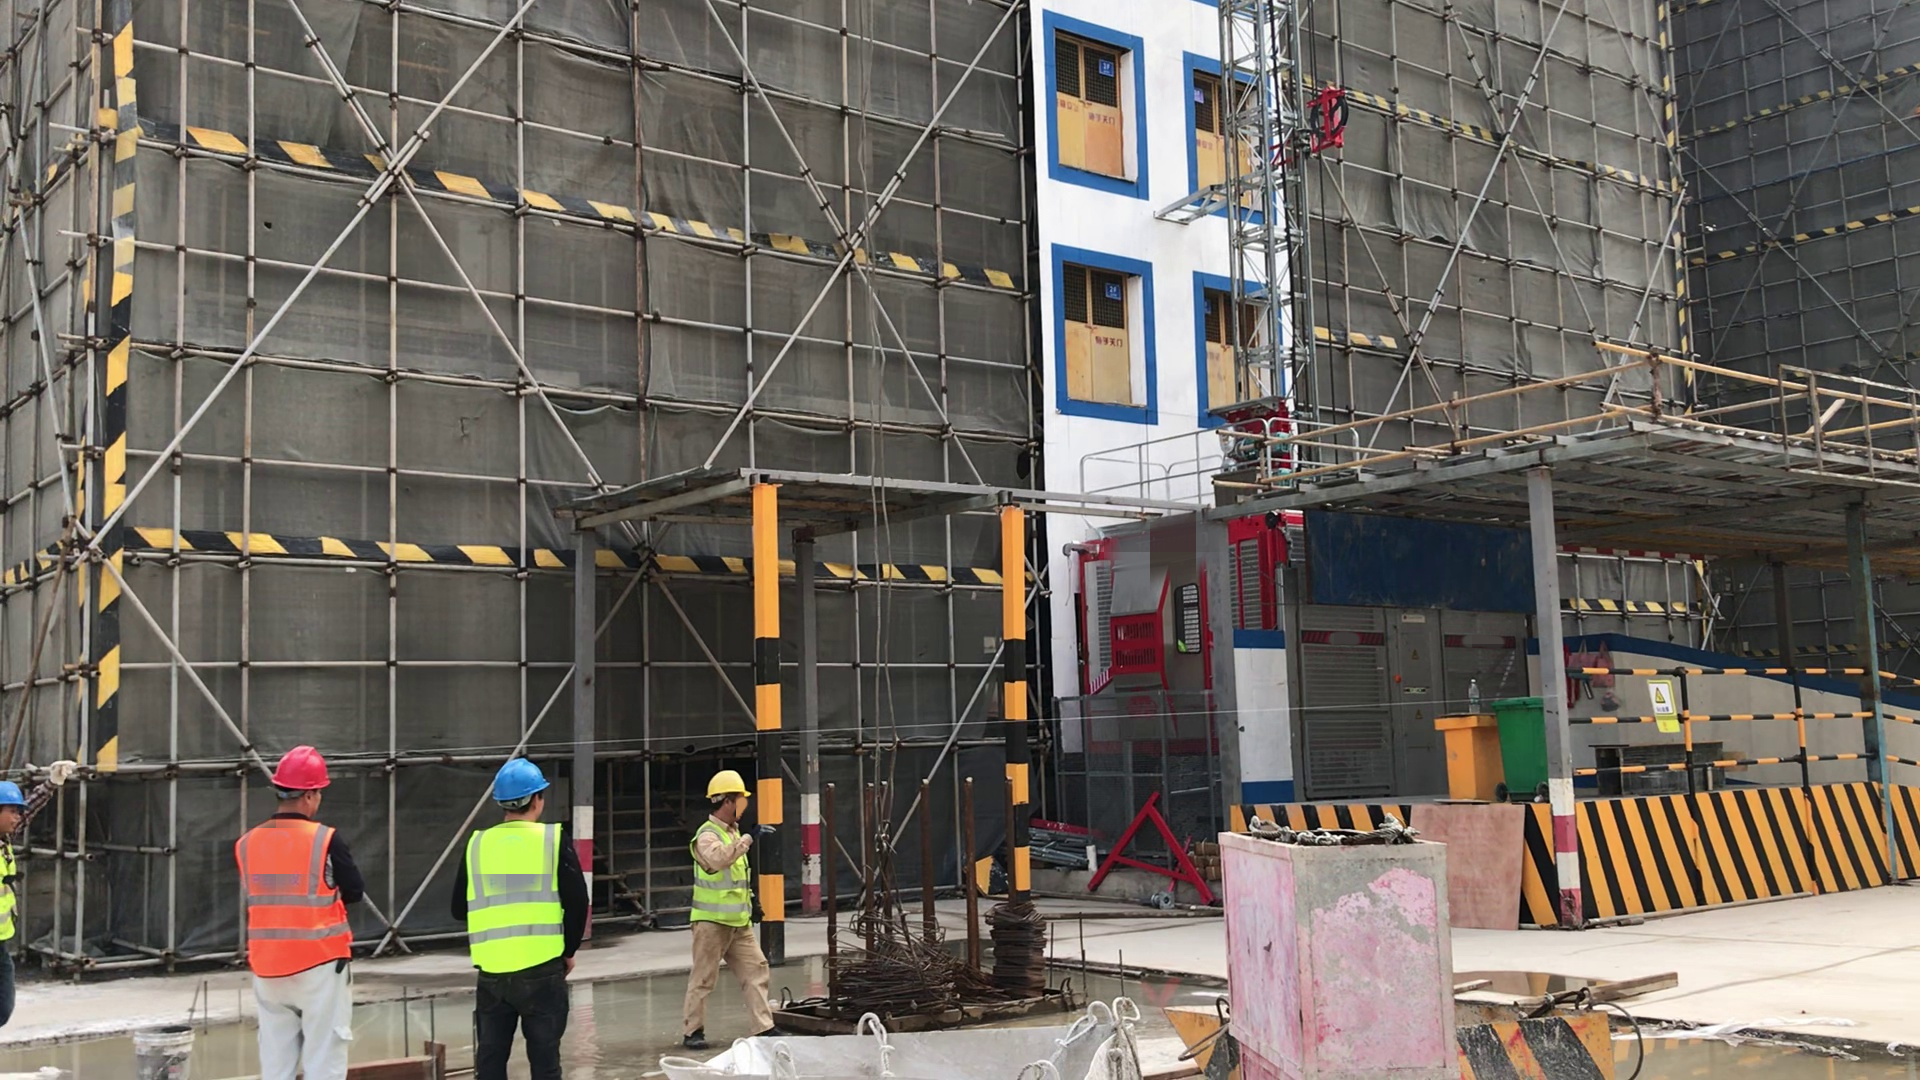fence: (1557, 631, 1920, 803)
helmet: (274, 744, 331, 797), (490, 758, 558, 800), (703, 765, 755, 801), (1, 775, 28, 812)
hopper: (672, 1017, 1135, 1080)
person: (238, 741, 366, 1080), (460, 757, 588, 1080), (683, 764, 778, 1055), (4, 784, 32, 1037)
slogan: (1643, 657, 1694, 746)
vest: (236, 820, 364, 980), (464, 823, 576, 983), (688, 815, 760, 935), (3, 843, 26, 939)
